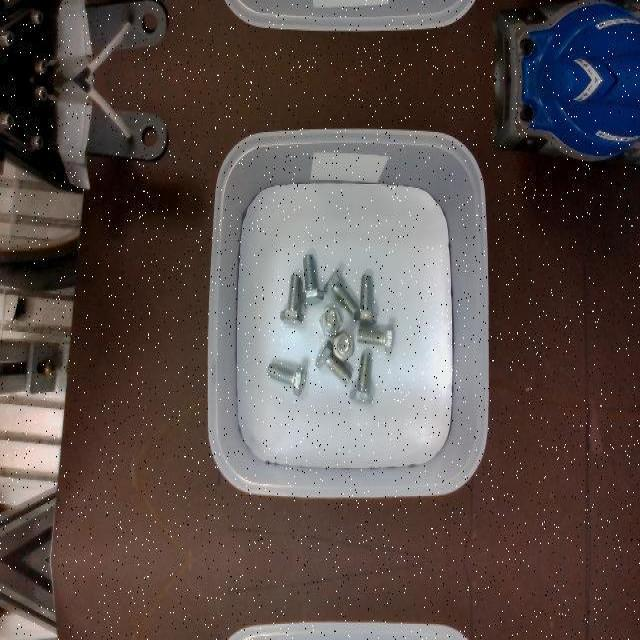screw: (323, 268, 360, 322), (315, 339, 351, 385), (267, 362, 307, 396), (279, 273, 303, 323), (299, 253, 323, 303), (348, 354, 372, 404), (356, 323, 392, 355), (355, 275, 377, 325), (319, 307, 342, 337), (333, 331, 353, 361)
